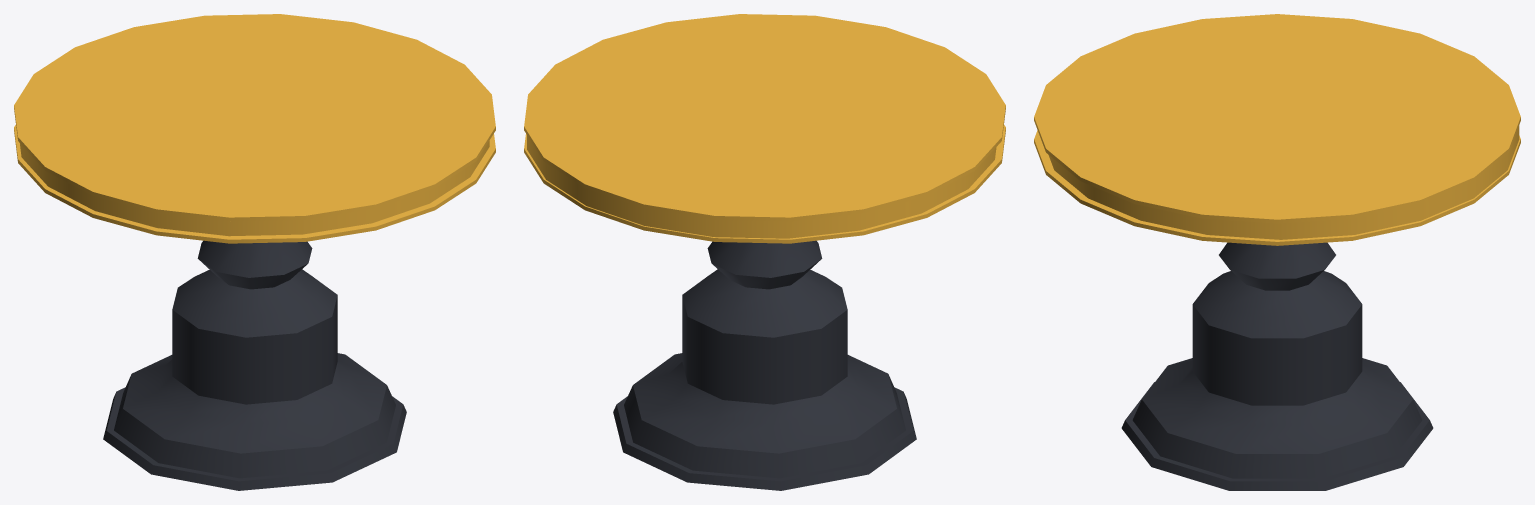
The model's file is cafe-table.glb.
3 renders of one model, left to right at view 1: azimuth 30°, elevation 25°; view 2: azimuth 150°, elevation 25°; view 3: azimuth 270°, elevation 25°, orthographic.
Parts seen in each view (by area): view 1: Tabletop, Pedestal and Base; view 2: Tabletop, Pedestal and Base; view 3: Tabletop, Pedestal and Base.
Boxes of the visible parts, x1,y1,x2,y2 form: Tabletop: (14,14,495,243); Pedestal and Base: (103,240,406,490); Tabletop: (524,14,1005,243); Pedestal and Base: (613,240,916,490); Tabletop: (1034,14,1520,245); Pedestal and Base: (1121,242,1433,490).
Bounding box in the file's own units: 4.25 × 3 × 4.25.
